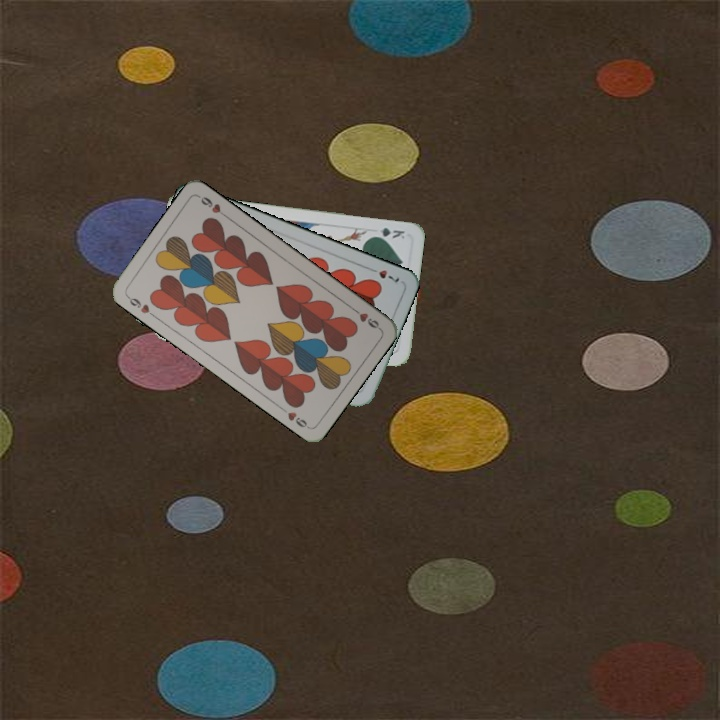GK: (368, 224, 407, 242)
H7: (364, 264, 402, 285)
H9: (347, 303, 382, 332), (123, 292, 158, 320)
